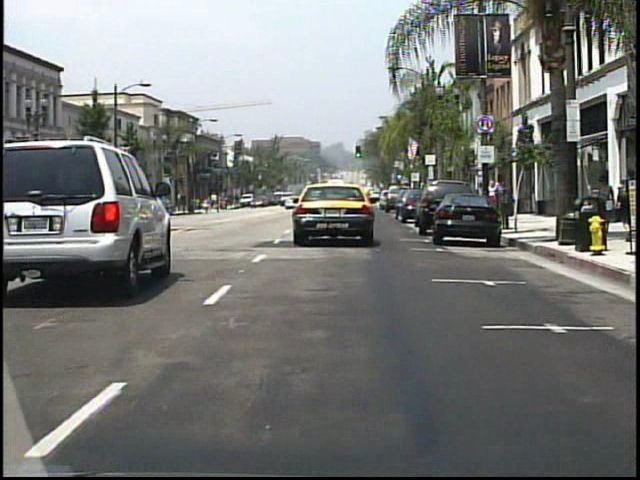person: (587, 173, 614, 235), (488, 180, 499, 215), (235, 194, 242, 210)
